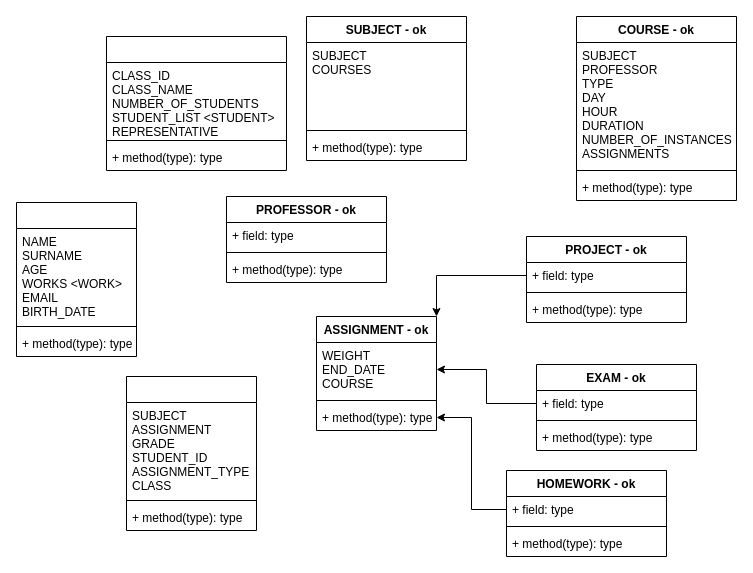
This 753x573 diagram has some shape labels left out. The shapes that lost their labels are listed below. From the top down, each one's box as (x1, y1, x2, y2) in pixels, then its label:
(106, 36, 286, 170): CLASS - ok
(16, 202, 136, 356): STUDENT - ok
(126, 376, 256, 530): WORK - ok
